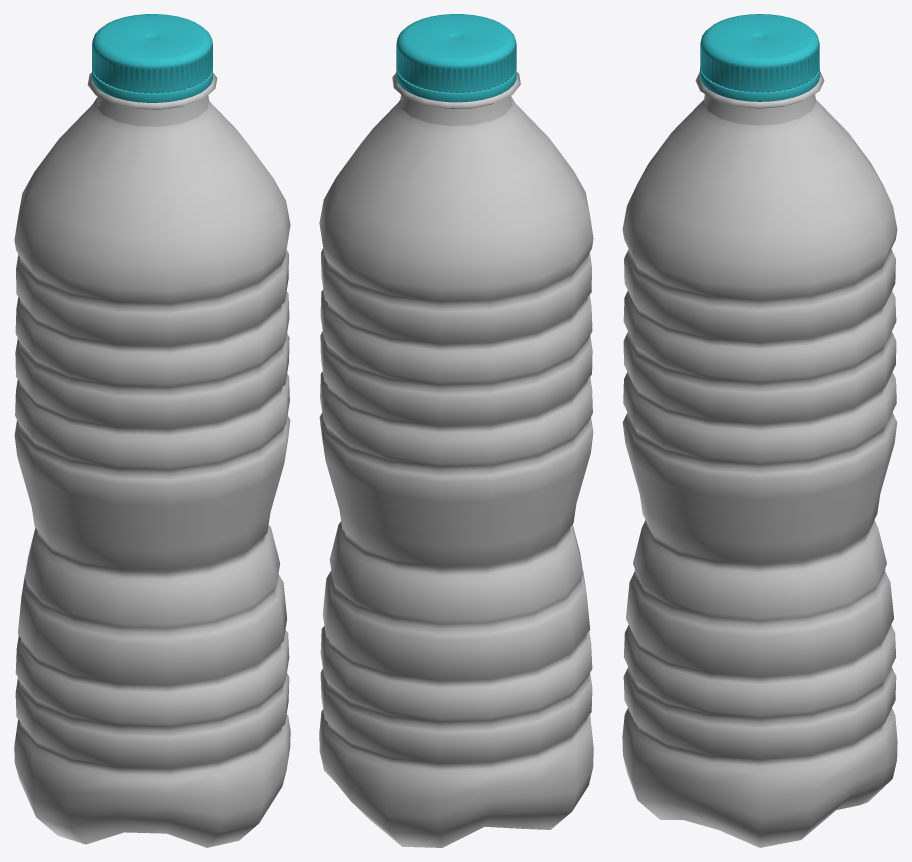
The model's file is plastic_water_bottle.obj.
3 views of the same model, side by side, from view 1: azimuth 30°, elevation 25°; view 2: azimuth 150°, elevation 25°; view 3: azimuth 270°, elevation 25° (orthographic).
Visible parts, largest first — view 1: bottle_Spiral.003, cap_Cylinder.006, cap_ring_Cylinder.005; view 2: bottle_Spiral.003, cap_Cylinder.006, cap_ring_Cylinder.005; view 3: bottle_Spiral.003, cap_Cylinder.006, cap_ring_Cylinder.005.
Boxes of the visible parts, x1,y1,x2,y2 form: bottle_Spiral.003: (14, 72, 290, 847); cap_Cylinder.006: (92, 14, 212, 93); cap_ring_Cylinder.005: (91, 68, 213, 102); bottle_Spiral.003: (319, 72, 593, 847); cap_Cylinder.006: (396, 14, 516, 92); cap_ring_Cylinder.005: (396, 67, 516, 102); bottle_Spiral.003: (622, 71, 897, 847); cap_Cylinder.006: (700, 14, 819, 92); cap_ring_Cylinder.005: (700, 68, 819, 101).
Size of the model in its own units: 0.0669 by 0.2057 by 0.0669.
